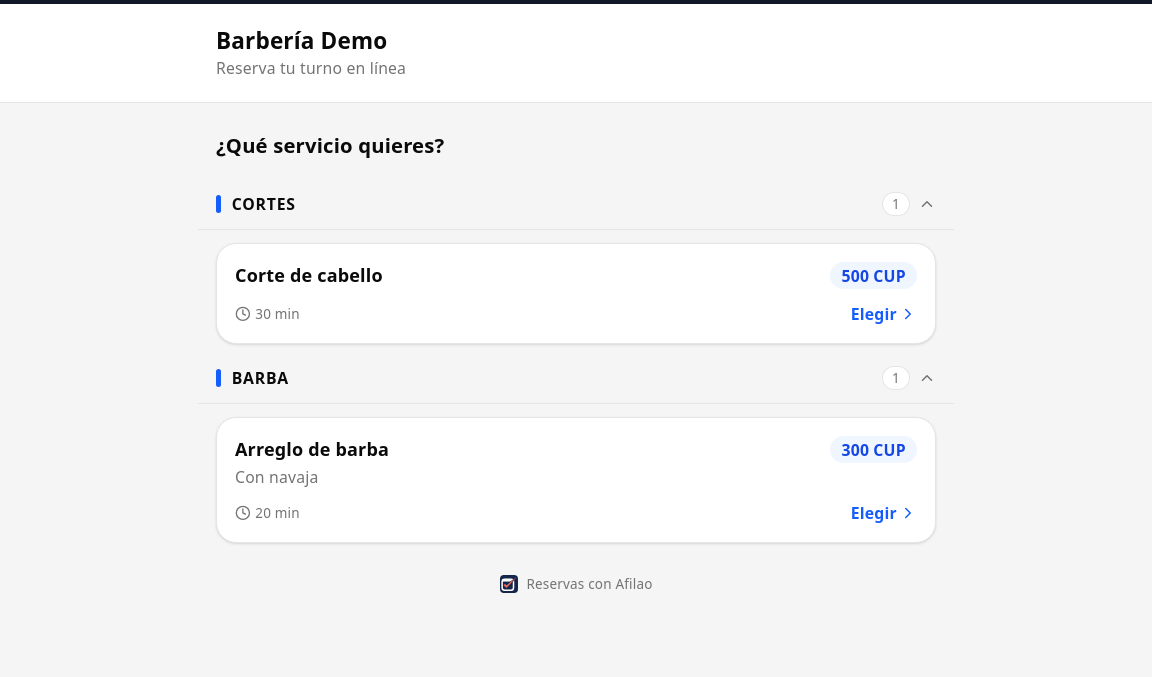
Reserva pública › con varios profesionales cuenta un paso más y muestra con quién se reserva
The width and height of the screenshot is (1152, 677).
Click the button "Corte de cabello 500 CUP 30 min Elegir": [309, 275] box [216,243,936,344]
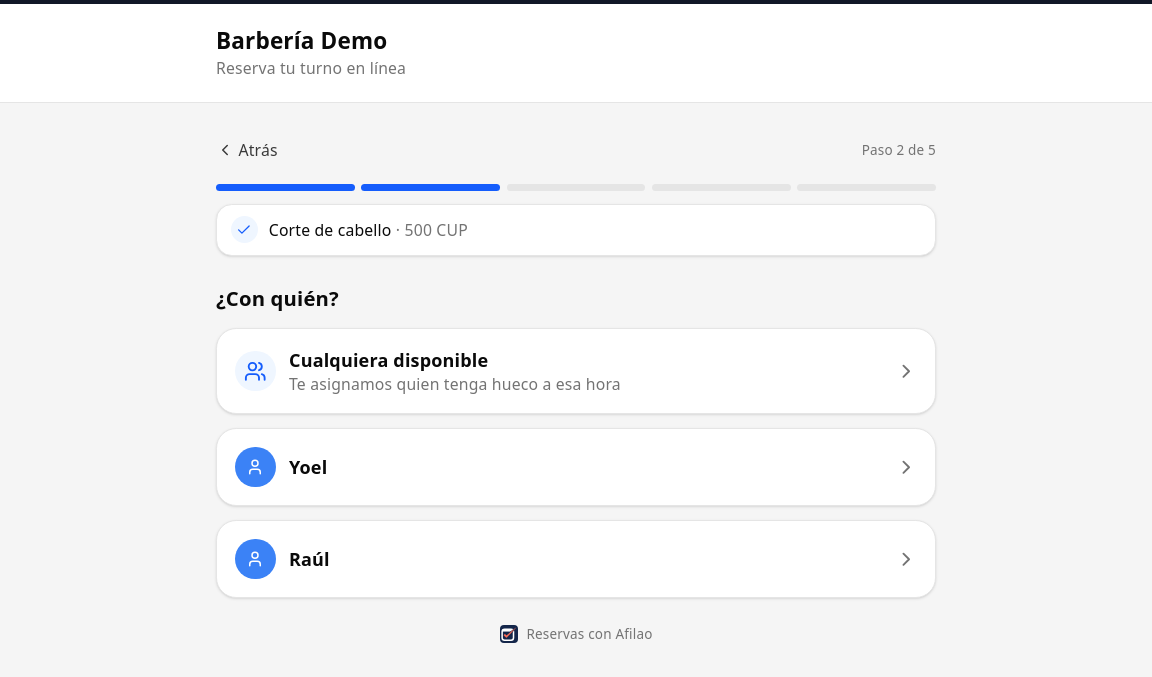
Now the text "Paso 2 de 5" is shown, box [862,141,936,159]
Click the button "Raúl": [255, 559] box [216,520,936,598]
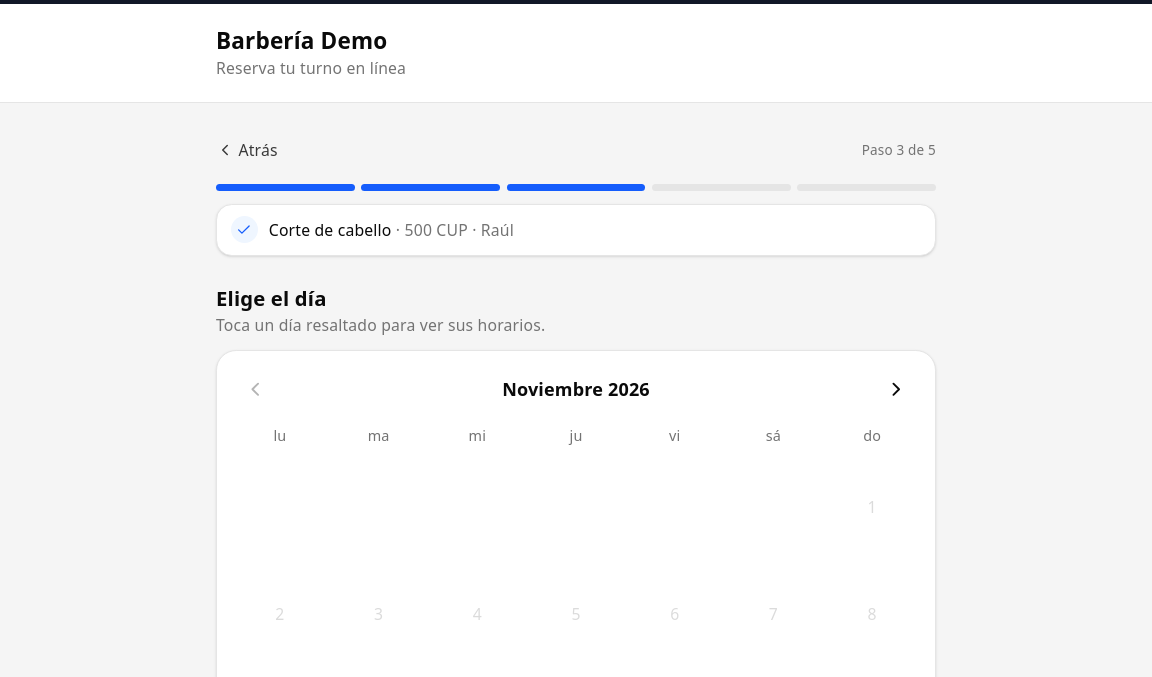
Now the text "Paso 3 de 5" is shown, box [862,141,936,159]
Now the text "· 500 CUP · Raúl" is shown, box [392,219,514,241]
